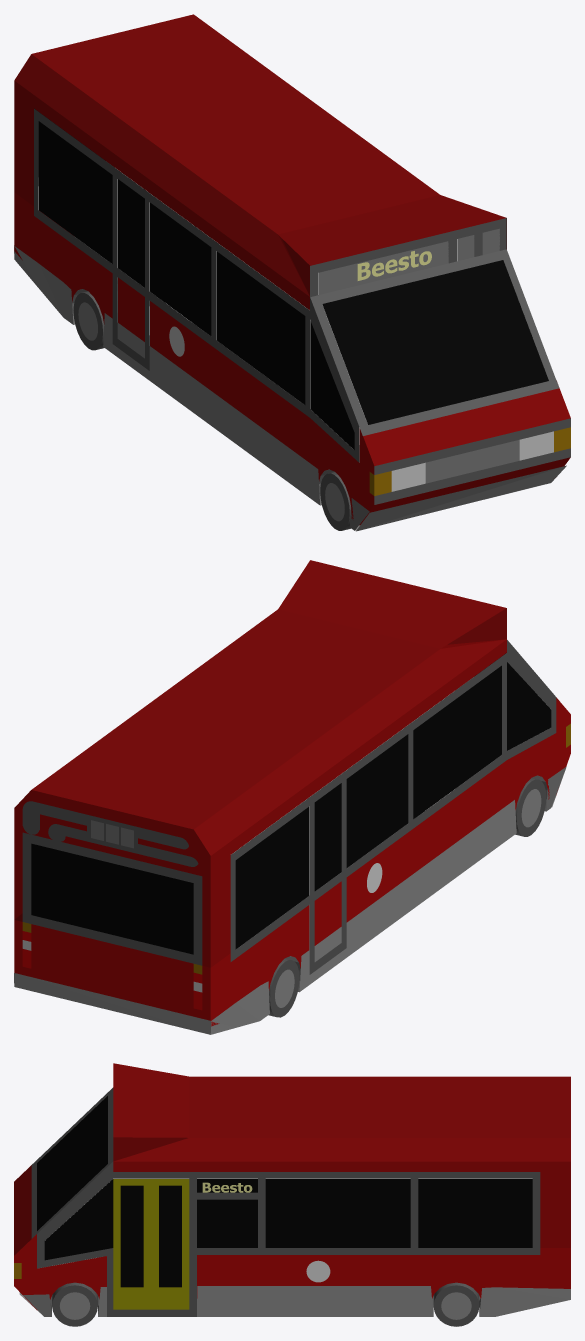
Rendered from optare-metrorider-red.dae.
The picture shows the model from 3 angles, top to bottom: view 1: azimuth 30°, elevation 25°; view 2: azimuth 150°, elevation 25°; view 3: azimuth 270°, elevation 25°; orthographic projection. The views are drawn at different scales.
Parts seen in each view (by area): view 1: SketchUp_002, SketchUp_034, SketchUp_001, SketchUp_025, SketchUp_011, SketchUp_008, SketchUp_009, SketchUp_010, SketchUp_020, SketchUp_024, SketchUp_038, SketchUp_012 (+11 smaller); view 2: SketchUp_002, SketchUp_020, SketchUp_047, SketchUp_001, SketchUp_025, SketchUp_046, SketchUp_011, SketchUp_008, SketchUp_009, SketchUp_010, SketchUp_007, SketchUp_031 (+5 smaller); view 3: SketchUp_002, SketchUp_001, SketchUp_020, SketchUp_005, SketchUp_006, SketchUp_003, SketchUp_004, SketchUp_034, SketchUp_025, SketchUp, SketchUp_032, SketchUp_028 (+10 smaller).
Part boxes in pixels (box(x1,y1,x2,y2)): SketchUp_002: box(14, 14, 506, 309); SketchUp_034: box(322, 260, 548, 424); SketchUp_001: box(34, 109, 558, 462); SketchUp_025: box(150, 301, 570, 525); SketchUp_011: box(216, 251, 305, 404); SketchUp_008: box(103, 313, 319, 504); SketchUp_009: box(39, 121, 112, 263); SketchUp_010: box(150, 202, 211, 335); SketchUp_020: box(14, 192, 112, 324); SketchUp_024: box(355, 465, 566, 531); SketchUp_038: box(319, 241, 448, 294); SketchUp_012: box(310, 320, 354, 449); SketchUp_002: box(14, 560, 506, 967); SketchUp_020: box(14, 905, 309, 1026); SketchUp_047: box(31, 843, 193, 954); SketchUp_001: box(230, 640, 556, 974); SketchUp_025: box(346, 697, 570, 922); SketchUp_046: box(22, 801, 202, 965); SketchUp_011: box(413, 665, 501, 819); SketchUp_008: box(299, 800, 516, 991); SketchUp_009: box(235, 807, 309, 949); SketchUp_010: box(346, 734, 408, 867); SketchUp_007: box(14, 973, 269, 1034); SketchUp_031: box(314, 783, 341, 891); SketchUp_002: box(113, 1063, 570, 1247); SketchUp_001: box(31, 1087, 540, 1316); SketchUp_020: box(197, 1248, 570, 1298); SketchUp_005: box(265, 1179, 410, 1247); SketchUp_006: box(418, 1179, 532, 1247); SketchUp_003: box(197, 1286, 433, 1316); SketchUp_004: box(113, 1179, 189, 1309); SketchUp_034: box(37, 1096, 107, 1230); SketchUp_025: box(14, 1165, 106, 1310); SketchUp: box(44, 1179, 113, 1260); SketchUp_032: box(197, 1199, 257, 1247); SketchUp_028: box(120, 1185, 143, 1287).
Bounding box in the file's own units: 1.63 × 5.12 × 1.92.
